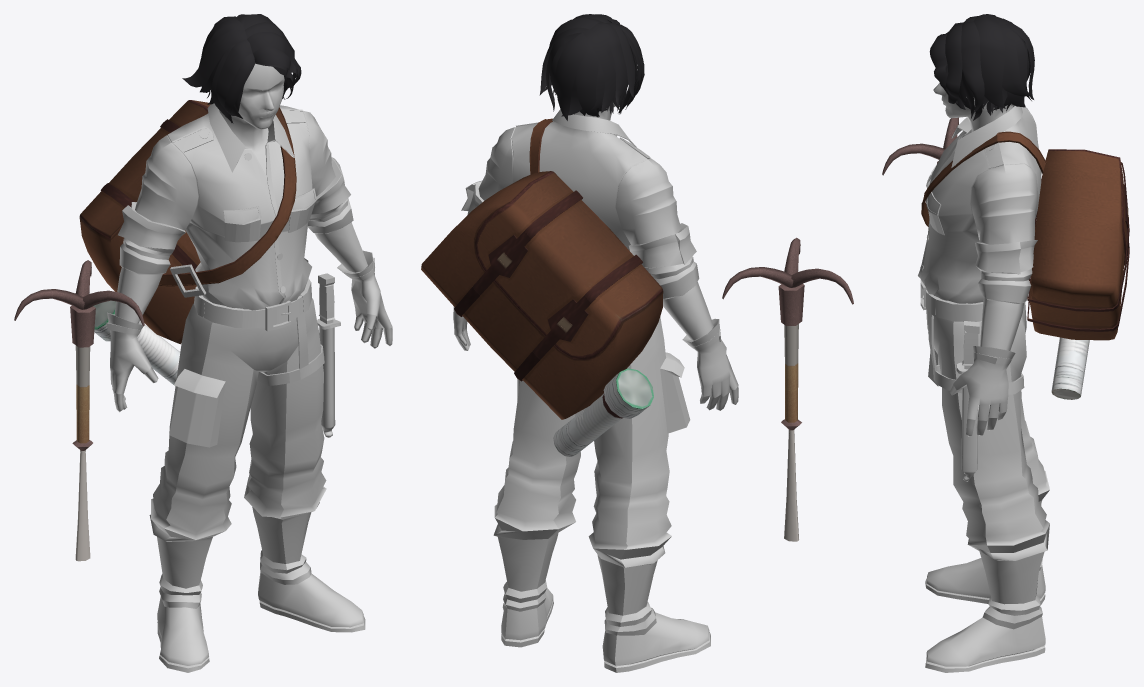
The model's file is daomubiji.fbx.
3 renders of one model, left to right at view 1: azimuth 30°, elevation 25°; view 2: azimuth 150°, elevation 25°; view 3: azimuth 270°, elevation 25°, orthographic.
Parts seen in each view (by area): view 1: juese_kuzi, juese_yifu, juese_zhuangshi, bao01, toufa_A, bao02, wuqi01, juese_tou, juese_yaodai, wuqi02, bishou02, bishou01; view 2: juese_kuzi, bao01, juese_yifu, bao02, toufa_A, wuqi01, wuqi02, juese_zhuangshi; view 3: juese_kuzi, juese_yifu, bao01, toufa_A, bao02, juese_zhuangshi, juese_yaodai, bishou02, juese_tou, wuqi02, bishou01.
Boxes of the visible parts, bbox=[...] form: juese_kuzi: bbox=[149, 298, 365, 672]; juese_yifu: bbox=[106, 103, 392, 412]; juese_zhuangshi: bbox=[169, 109, 324, 447]; bao01: bbox=[79, 100, 210, 344]; toufa_A: bbox=[182, 14, 301, 123]; bao02: bbox=[93, 107, 296, 384]; wuqi01: bbox=[70, 306, 95, 561]; juese_tou: bbox=[219, 63, 284, 178]; juese_yaodai: bbox=[194, 278, 311, 328]; wuqi02: bbox=[14, 260, 144, 326]; bishou02: bbox=[319, 327, 335, 437]; bishou01: bbox=[318, 273, 334, 323]; juese_kuzi: bbox=[493, 317, 710, 672]; bao01: bbox=[421, 171, 663, 419]; juese_yifu: bbox=[453, 109, 738, 410]; bao02: bbox=[454, 118, 653, 456]; toufa_A: bbox=[539, 14, 644, 120]; wuqi01: bbox=[778, 284, 804, 541]; wuqi02: bbox=[722, 237, 853, 304]; juese_zhuangshi: bbox=[516, 122, 690, 433]; juese_kuzi: bbox=[925, 302, 1049, 672]; juese_yifu: bbox=[918, 104, 1041, 436]; bao01: bbox=[1029, 149, 1126, 340]; toufa_A: bbox=[929, 14, 1034, 120]; bao02: bbox=[921, 131, 1129, 399]; juese_zhuangshi: bbox=[920, 137, 1024, 394]; juese_yaodai: bbox=[925, 290, 983, 321]; bishou02: bbox=[961, 385, 978, 481]; juese_tou: bbox=[933, 83, 1013, 134]; wuqi02: bbox=[882, 117, 958, 175]; bishou01: bbox=[962, 321, 979, 369].
Size of the model in its own units: 108 by 164 by 60.65.
